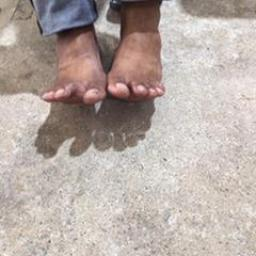Front View -Both Feet-: (33, 9, 175, 126)
